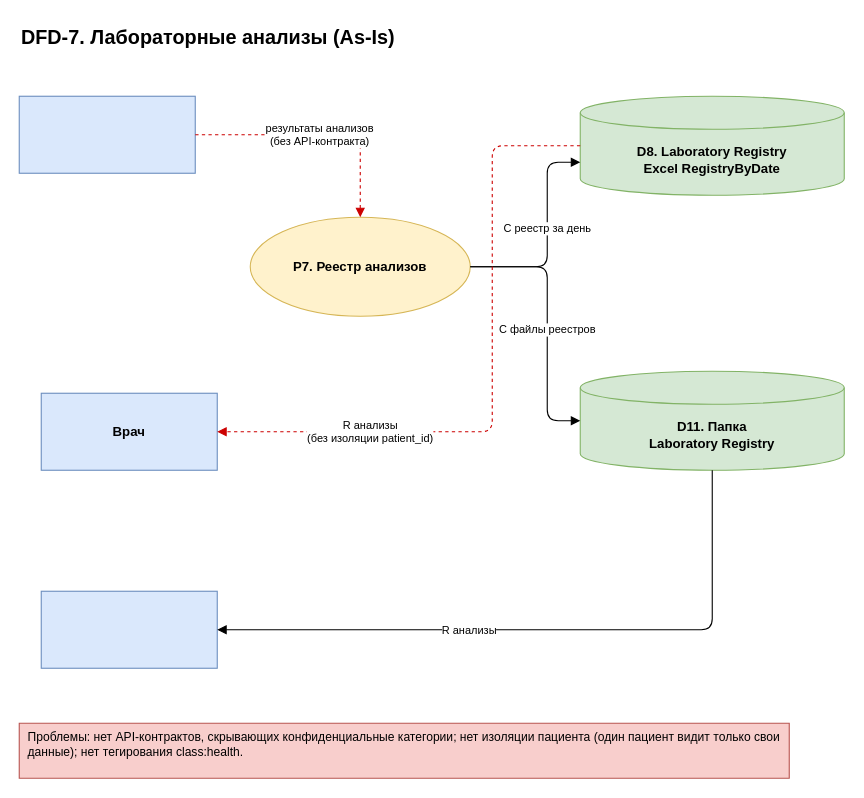
This 864x798 diagram has some shape labels left out. The centre of each missing label's shape, as x and y in pixels:
"Администратор" goes at point (128, 629).
"Лаборатория" goes at point (106, 134).
